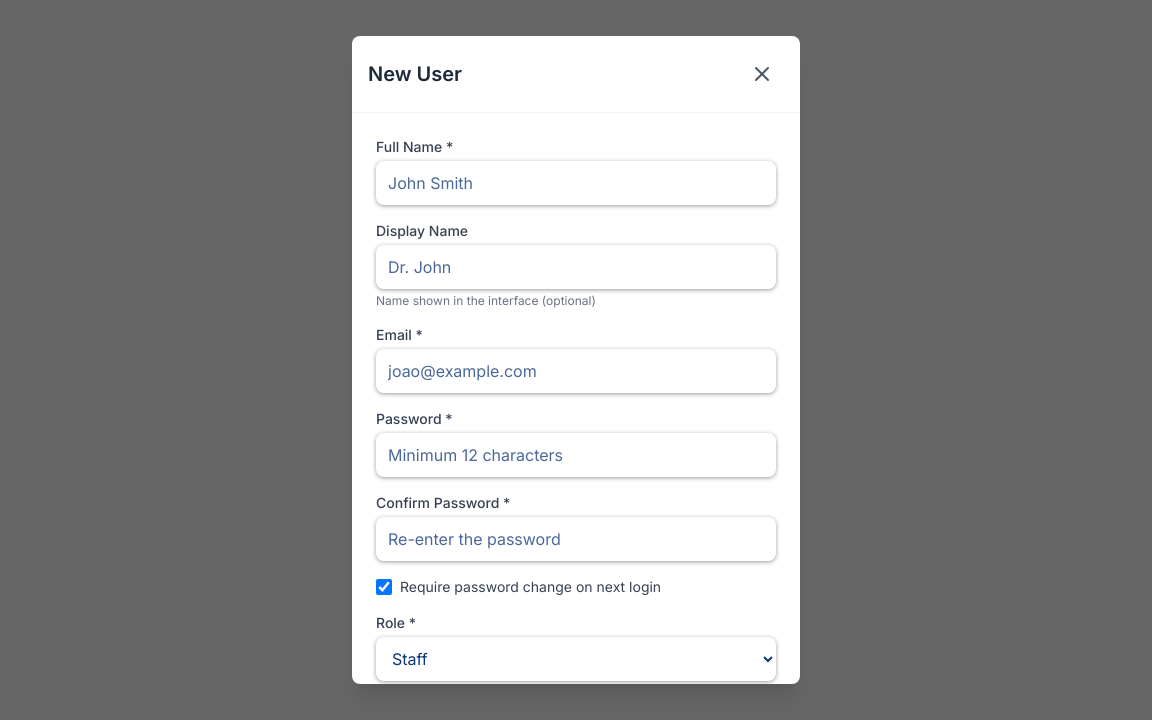
it: UserForm › Create Mode › should validate password length
Type "short" into the password field labelled "Password *".
click(576, 455); type("short")  # box [376,433,776,477]
(page scrolled)
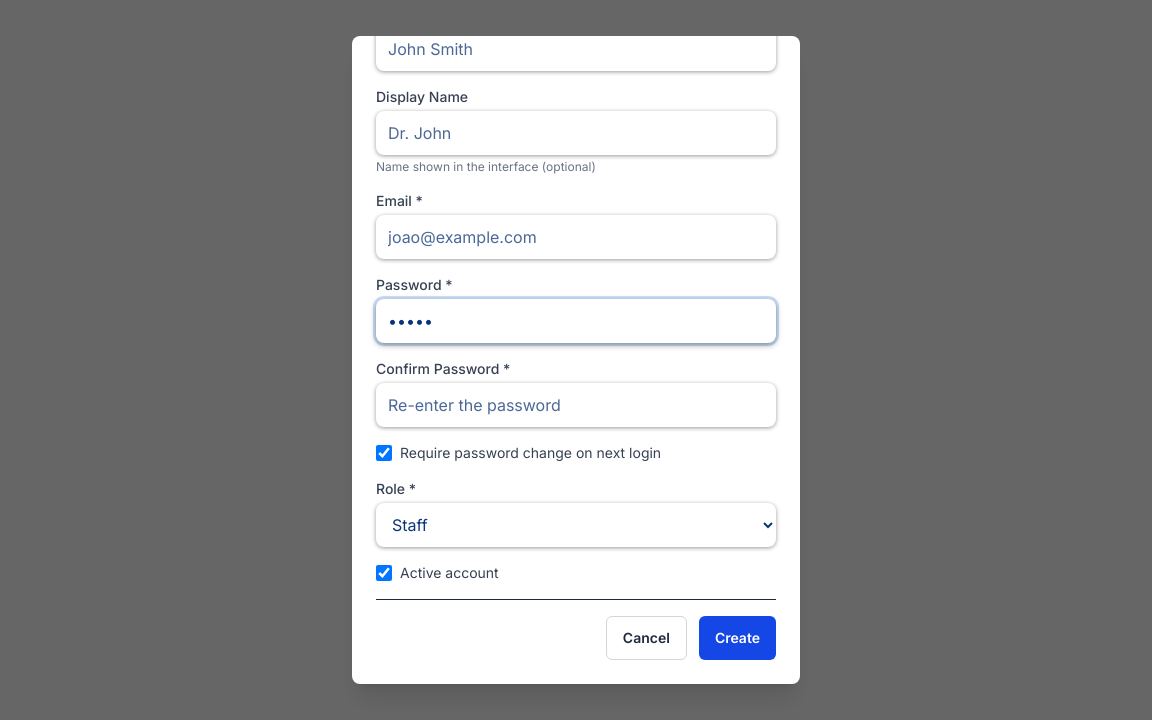
Click the button "Create".
click(737, 638)  # box [699,616,776,660]
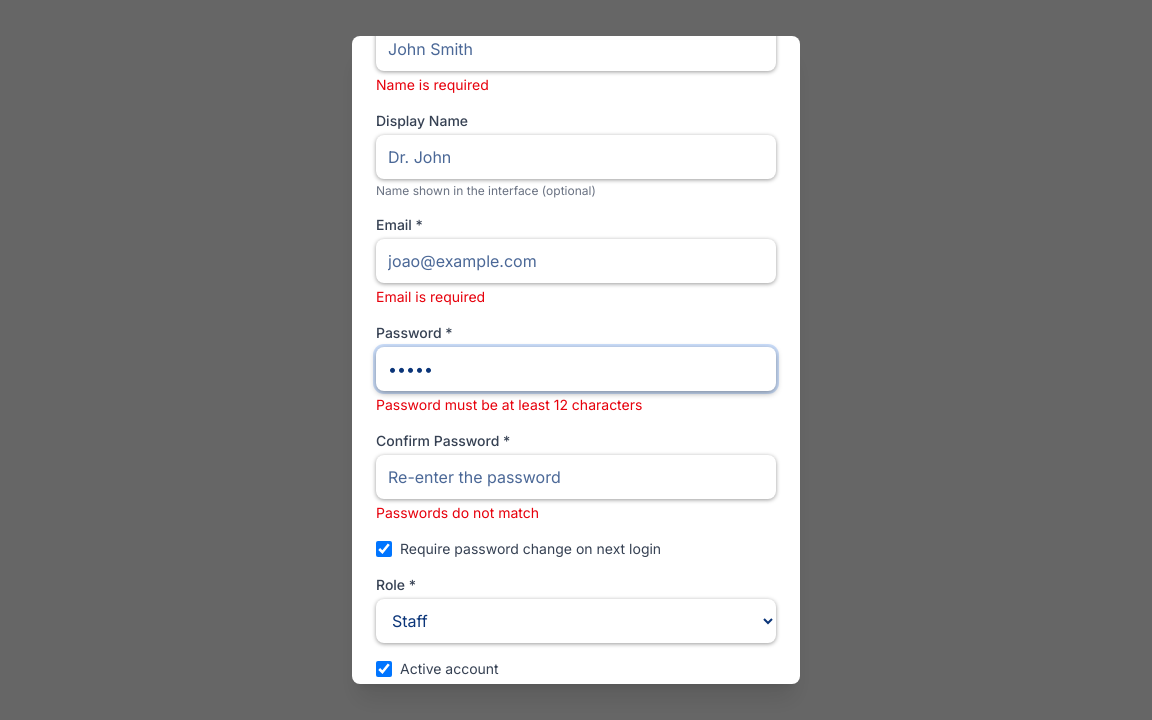
Check: the text "Password must be at least 12 characters" is shown, box [376,396,642,413]
